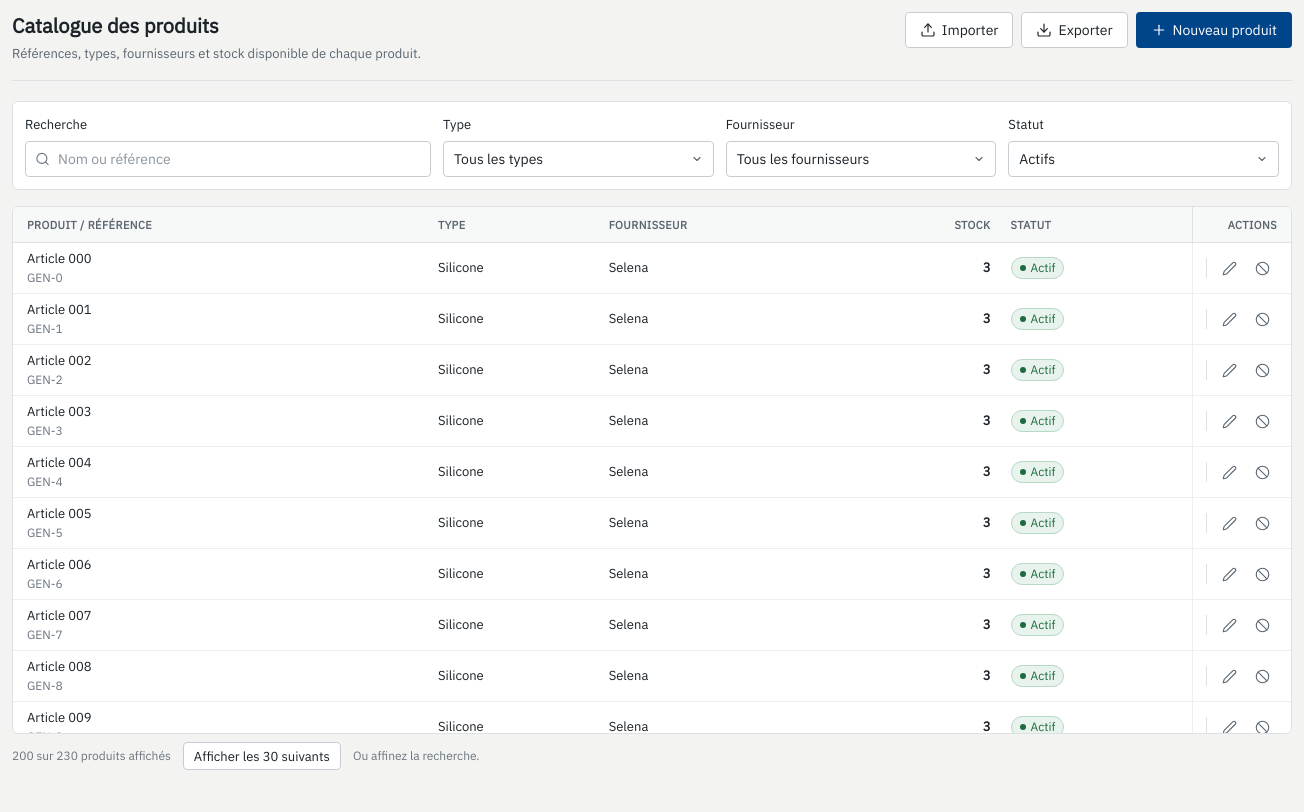
catalogue des produits › affiche un grand catalogue par tranches
Expected: the text "Article 000" is shown, [27,250,92,267]
Expected: the text "200 sur 230 produits affichés" is shown, [12,747,171,765]
Click the button "Afficher les 30 suivants": (262, 756) [183,742,341,770]
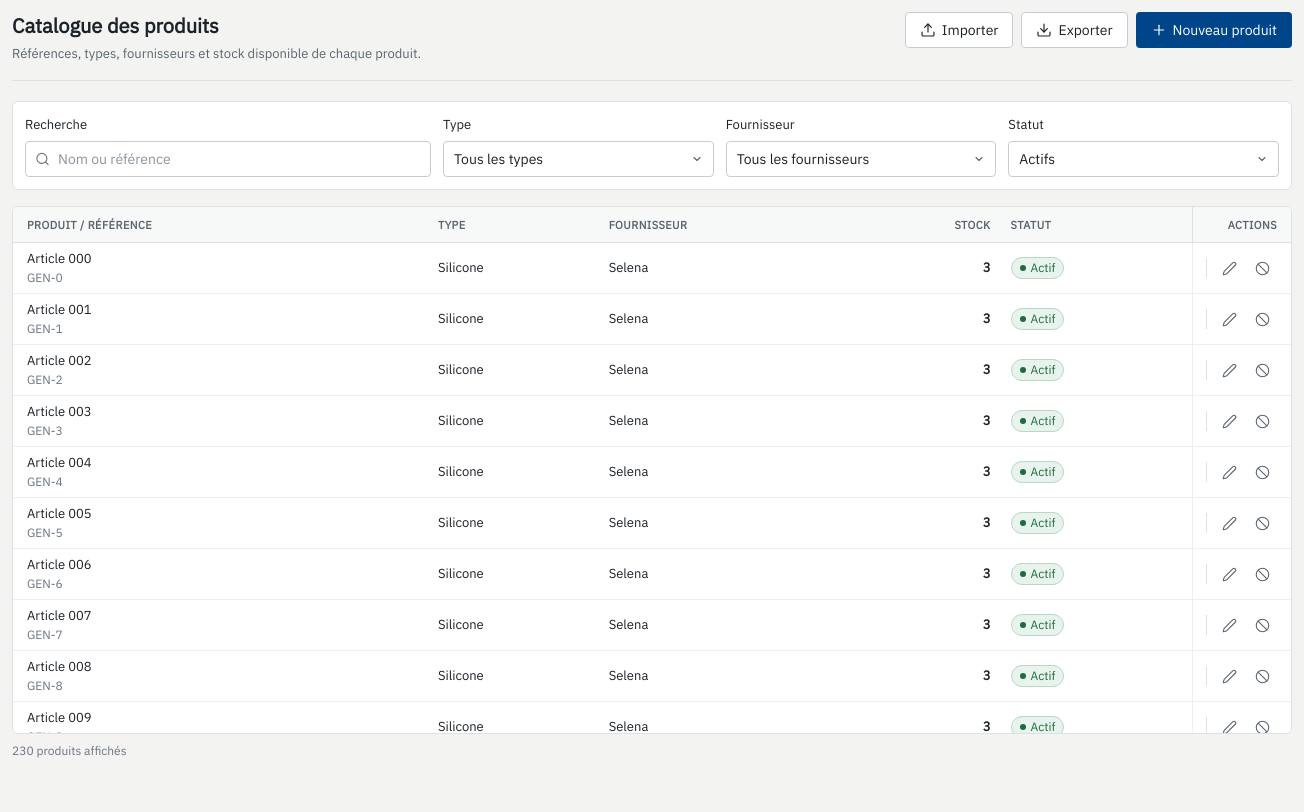
Expected: the text "230 produits affichés" is shown, [12,742,126,760]
Now the button "Afficher les" is gone
